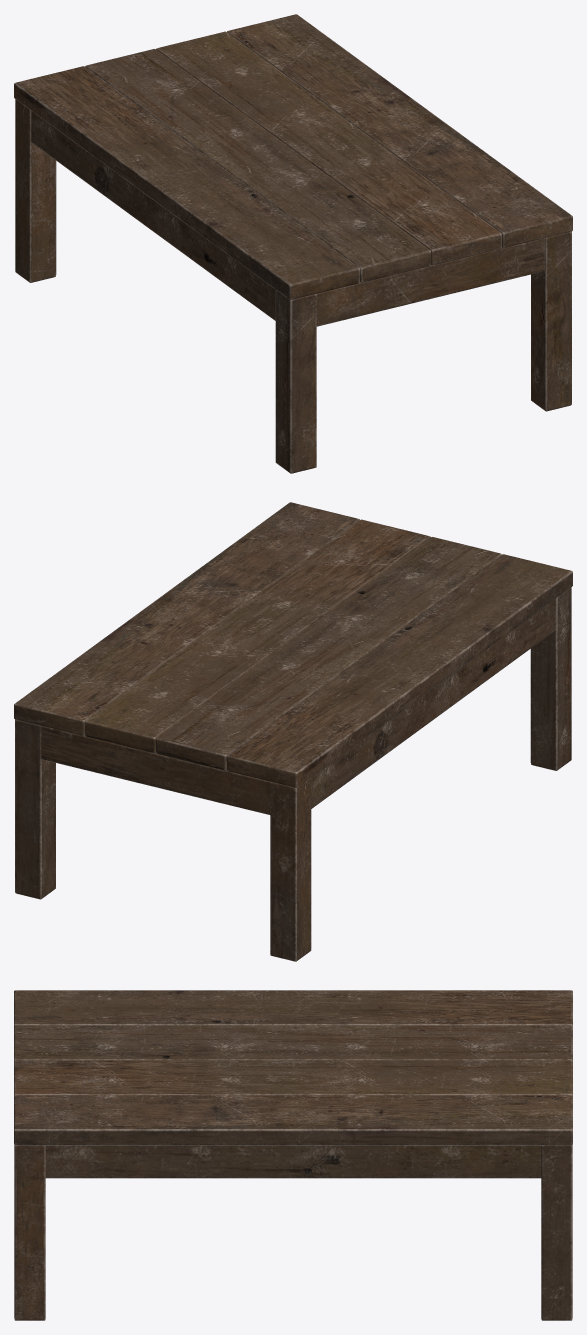
The model's file is basic_table.glb.
The picture shows the model from 3 angles, top to bottom: view 1: azimuth 30°, elevation 25°; view 2: azimuth 150°, elevation 25°; view 3: azimuth 270°, elevation 25°; orthographic projection.
Parts seen in each view (by area): view 1: Object_2; view 2: Object_2; view 3: Object_2.
Part boxes in pixels (<box>): Object_2: <box>14,14,572,473</box>; Object_2: <box>14,502,572,961</box>; Object_2: <box>14,990,572,1320</box>.
Size of the model in its own units: 5.37 by 3.43 by 9.06.
Materials: 1 (1 with a texture image).
